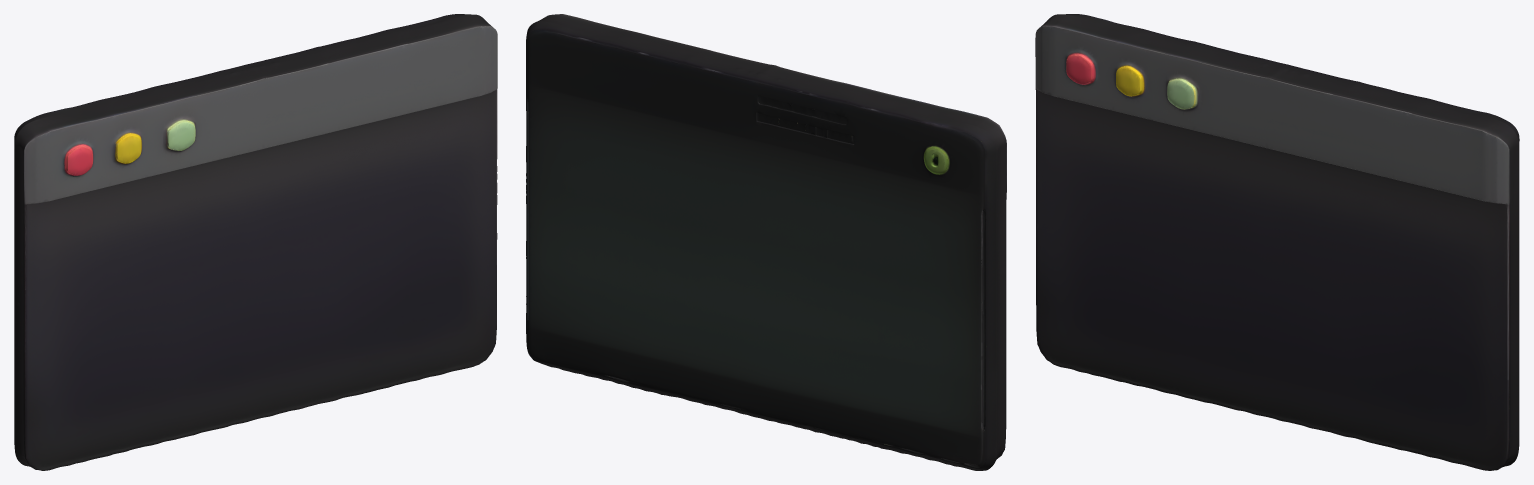
The model's file is terminal.glb.
3 renders of one model, left to right at view 1: azimuth 30°, elevation 25°; view 2: azimuth 150°, elevation 25°; view 3: azimuth 330°, elevation 25°, orthographic.
Visible parts, largest first — view 1: model; view 2: model; view 3: model.
Part boxes in pixels (x1,y1,x2,y2): model: (14,14,497,470); model: (526,14,1006,470); model: (1035,14,1519,470).
Bounding box in the file's own units: 1.9 × 1.33 × 0.1793.
Materials: 1 (1 with a texture image).
